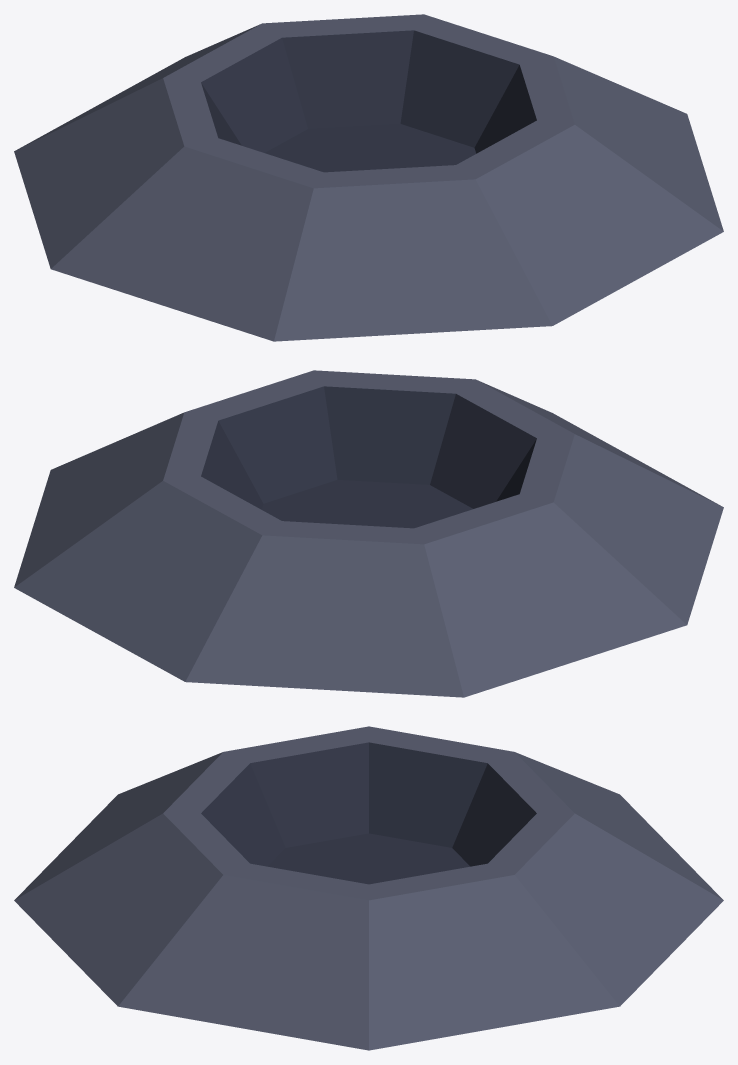
The model's file is craterLarge.glb.
The picture shows the model from 3 angles, top to bottom: view 1: azimuth 30°, elevation 25°; view 2: azimuth 150°, elevation 25°; view 3: azimuth 270°, elevation 25°; orthographic projection. The views are drawn at different scales.
Visible parts, largest first — view 1: craterLarge; view 2: craterLarge; view 3: craterLarge.
Part boxes in pixels (bbox=[...]): craterLarge: bbox=[14, 14, 723, 341]; craterLarge: bbox=[14, 370, 723, 697]; craterLarge: bbox=[14, 726, 723, 1050].
Bounding box in the file's own units: 0.886 × 0.12 × 0.886.
